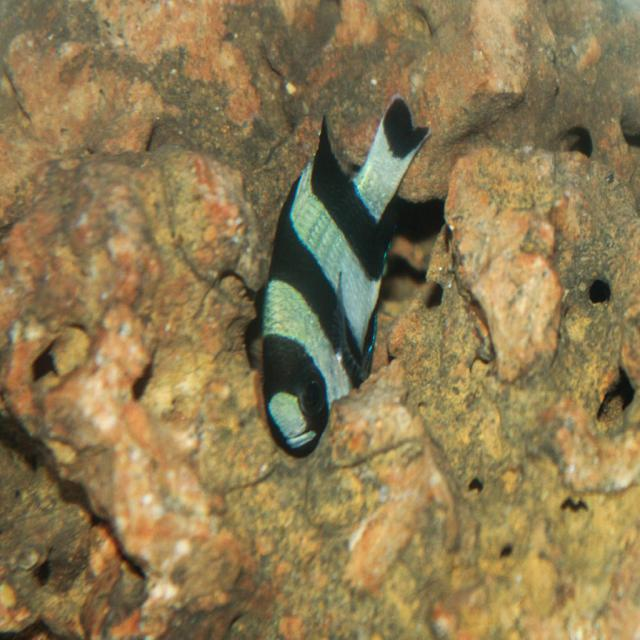ThreeStripedDamselfish: (253, 75, 432, 460)
